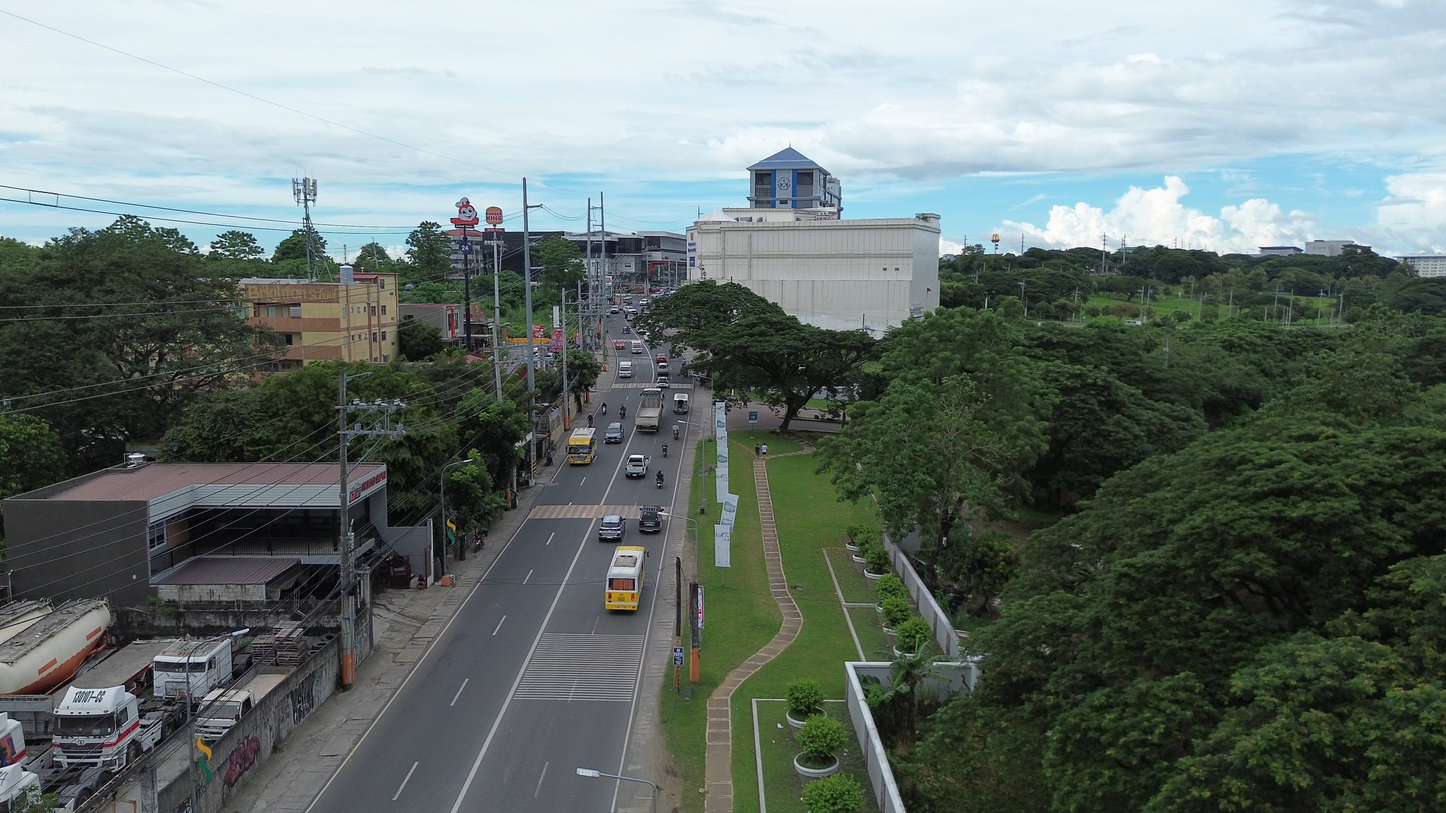bus: (567, 427, 596, 464)
car: (656, 373, 670, 388), (656, 360, 669, 373), (655, 353, 667, 363), (614, 340, 626, 350), (625, 312, 634, 321)
motorcycle: (656, 470, 664, 489), (672, 425, 679, 440), (600, 402, 607, 415), (662, 443, 668, 458)
vehicle: (0, 600, 111, 694), (53, 685, 165, 771), (195, 671, 287, 741), (153, 636, 233, 701), (195, 689, 254, 741), (605, 546, 647, 611), (0, 764, 42, 813), (635, 388, 662, 431), (598, 515, 625, 541), (638, 505, 662, 533), (625, 454, 649, 478), (604, 422, 624, 443), (673, 393, 689, 414), (618, 361, 633, 378), (656, 373, 670, 389), (631, 340, 644, 355), (656, 469, 665, 489), (656, 360, 669, 373), (654, 353, 667, 364), (614, 340, 627, 350), (609, 305, 621, 314), (625, 311, 634, 321)
